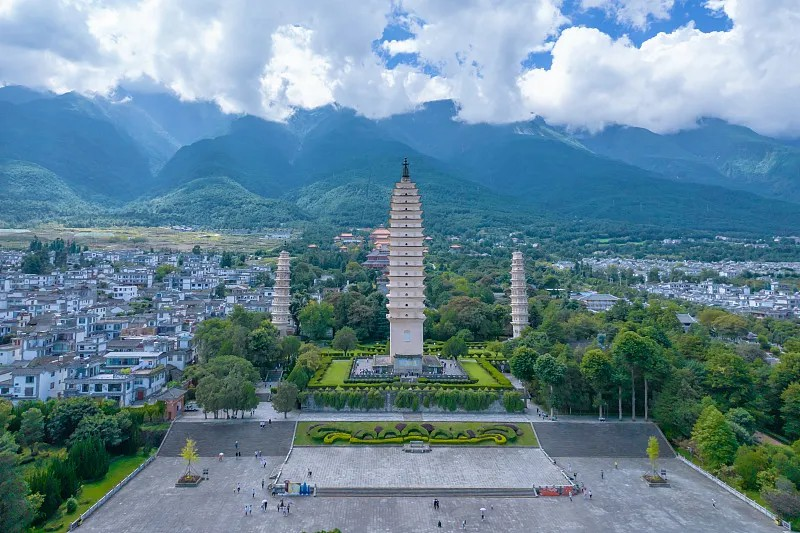ThreePagoda: (386, 157, 426, 360)
